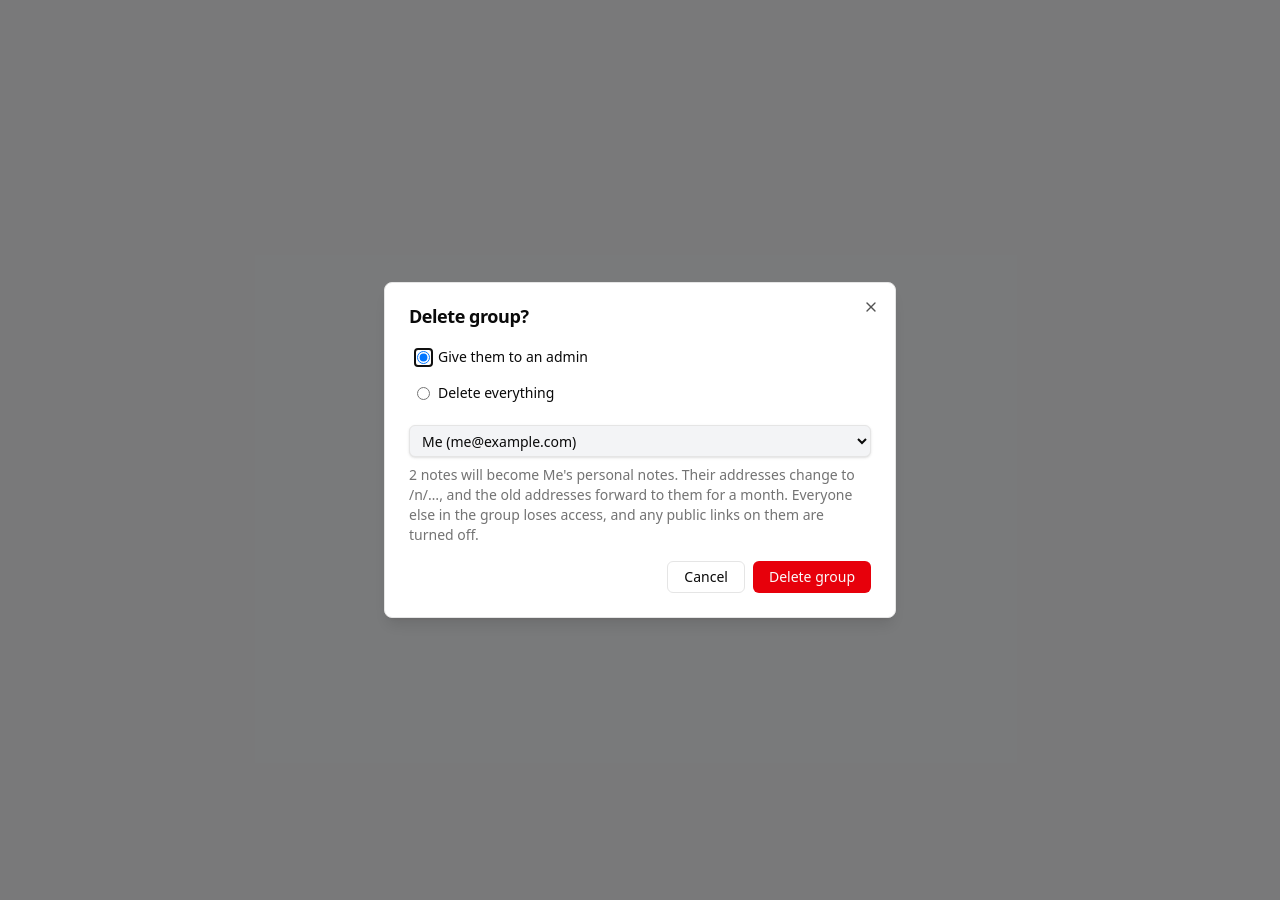
DeleteGroupDialog（#175 PR4，spec §8.6） › 409 not_admin → toast errors.not_admin、對話框留著、重抓成員名單（members GET 第二次）
This screenshot has width=1280, height=900.
Click the button "Delete group": {"x": 812, "y": 577} x1=753 y1=561 x2=871 y2=593
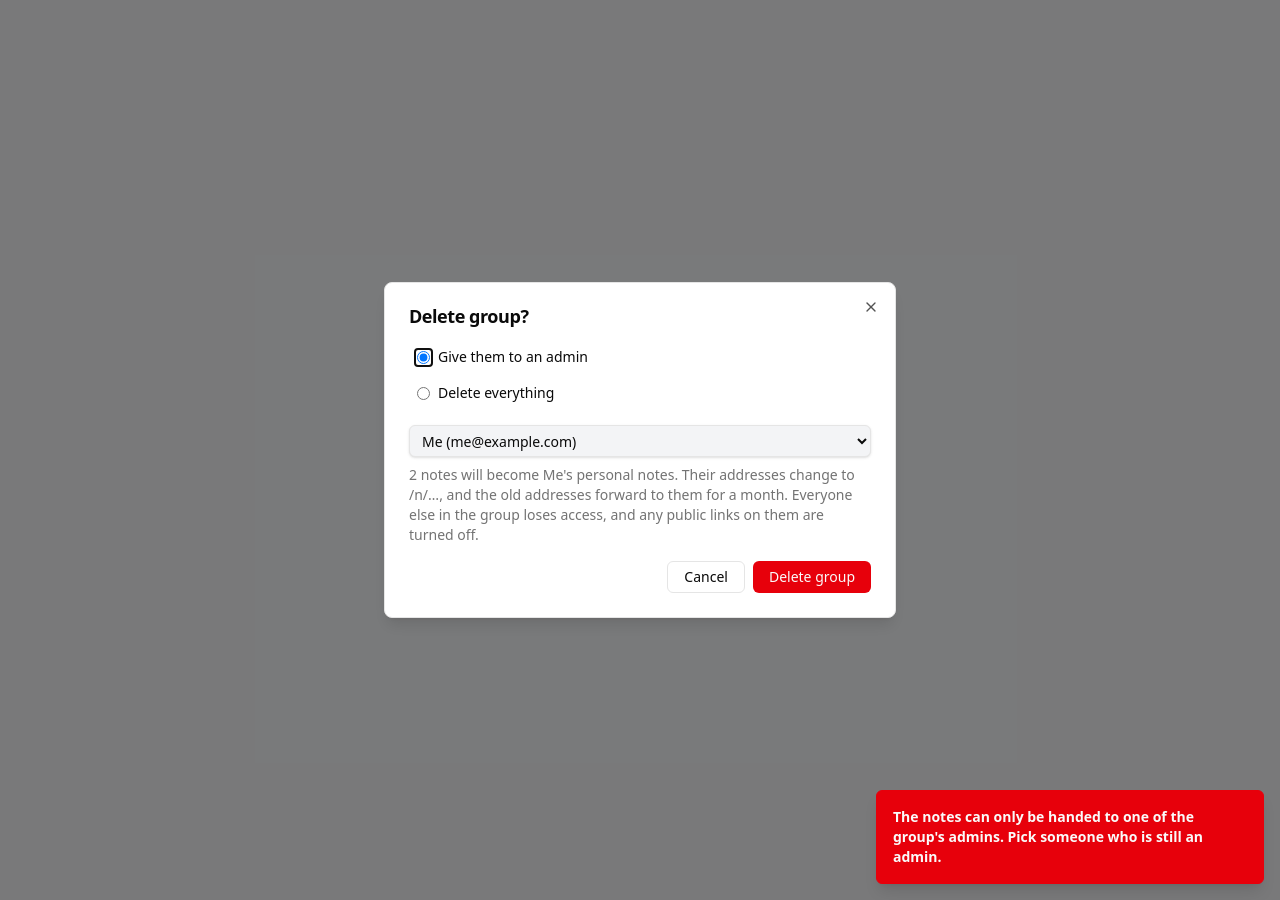
Expected: the dialog "Delete group?" is shown, x1=384 y1=282 x2=896 y2=618
Expected: the text "The notes can only be handed to one of the group's admins. Pick someone who is still an admin." is shown, x1=893 y1=807 x2=1203 y2=866
